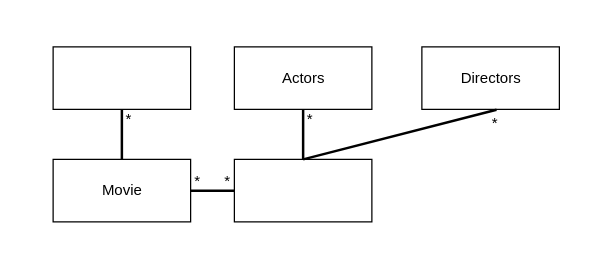
Some shapes in this 606 by 269 pixel diagram are drawn without their labels. The shapes that lost their labels are listed below. From the top down, each one's centre as x and y in pixels, then its label:
At pixel 121 77: "Movies".
At pixel 302 190: "Person".
